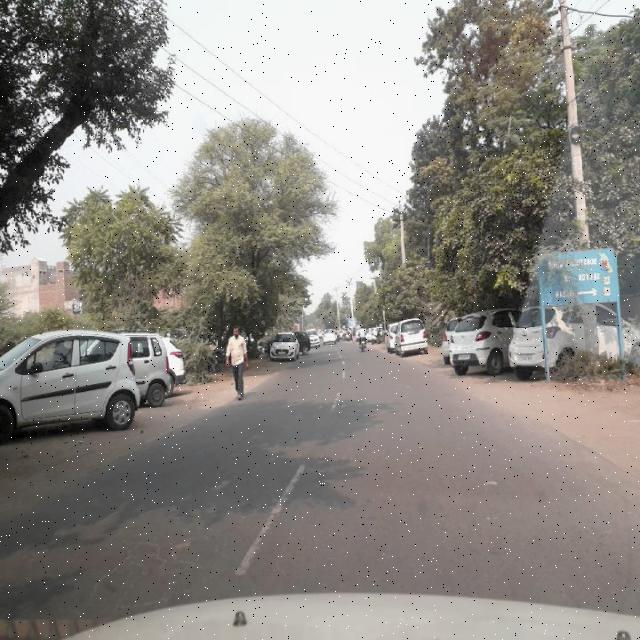D20: (70, 528, 207, 602)
D44: (229, 457, 311, 579), (324, 388, 346, 418)
